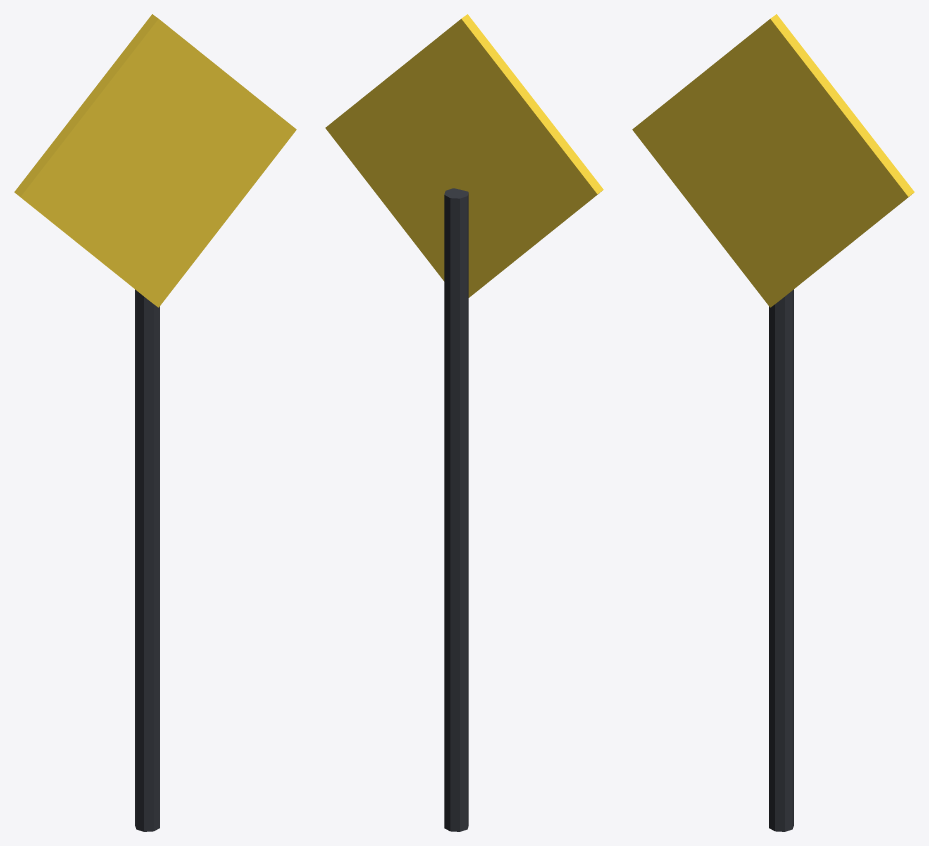
Rendered from yield_sign.glb.
3 renders of one model, left to right at view 1: azimuth 30°, elevation 25°; view 2: azimuth 150°, elevation 25°; view 3: azimuth 330°, elevation 25°, orthographic.
Parts seen in each view (by area): view 1: yield_sign; view 2: yield_sign; view 3: yield_sign.
Part boxes in pixels (x1,y1,x2,y2): yield_sign: [14, 14, 296, 831]; yield_sign: [325, 14, 603, 831]; yield_sign: [632, 14, 914, 831].
Size of the model in its own units: 0.9899 by 2.79 by 0.11.
